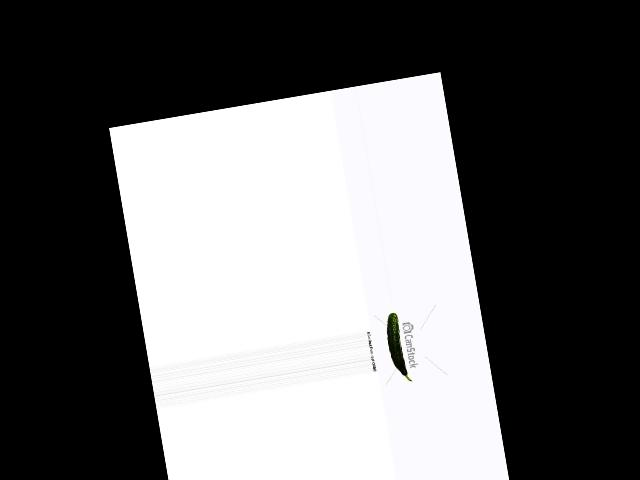cucumber: (383, 312, 411, 384)
